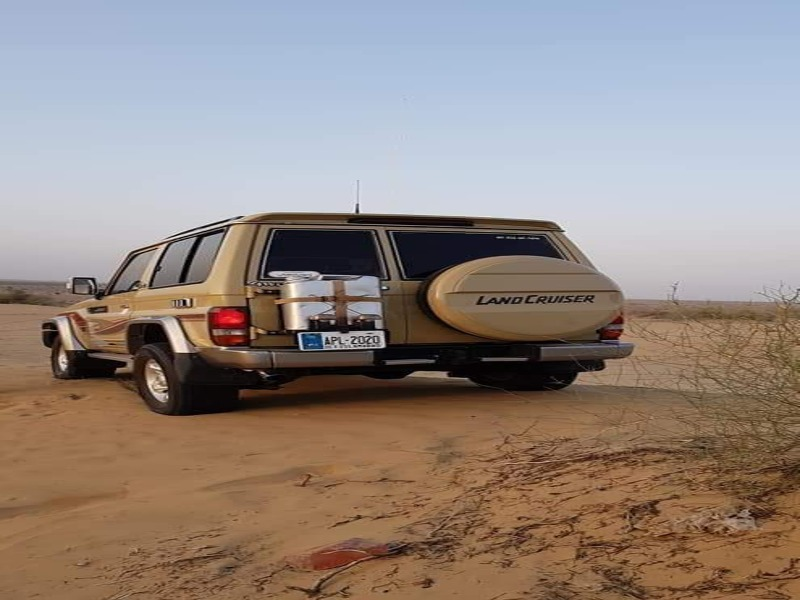License Plate: (294, 327, 390, 354)
